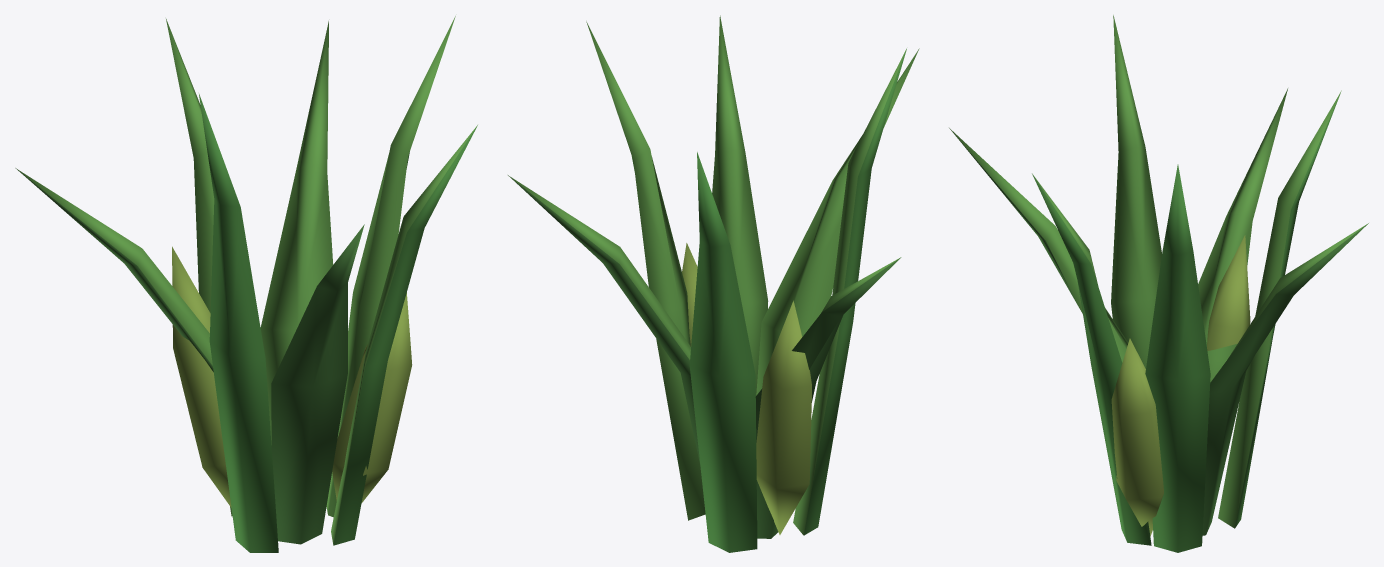
The model's file is rice_1.obj.
3 views of the same model, side by side, from view 1: azimuth 30°, elevation 25°; view 2: azimuth 150°, elevation 25°; view 3: azimuth 270°, elevation 25° (orthographic). The views are drawn at different scales.
Visible parts, largest first — view 1: rice_1_component_05, rice_1_component_06, rice_1_component_02, rice_1_component_07, rice_1_component_01, rice_1_component_08, rice_1_component_09, rice_1_component_04, rice_1_component_03; view 2: rice_1_component_03, rice_1_component_01, rice_1_component_05, rice_1_component_08, rice_1_component_07, rice_1_component_06, rice_1_component_02, rice_1_component_04, rice_1_component_09; view 3: rice_1_component_01, rice_1_component_05, rice_1_component_03, rice_1_component_02, rice_1_component_09, rice_1_component_07, rice_1_component_04, rice_1_component_06, rice_1_component_08.
Part boxes in pixels (x1,y1,x2,y2): rice_1_component_05: (199,94,278,552); rice_1_component_06: (271,224,364,544); rice_1_component_02: (260,21,333,444); rice_1_component_07: (331,125,477,545); rice_1_component_01: (326,16,455,517); rice_1_component_08: (172,246,231,507); rice_1_component_09: (332,292,412,502); rice_1_component_04: (15,168,213,371); rice_1_component_03: (166,19,232,516); rice_1_component_03: (689,152,757,552); rice_1_component_01: (586,21,705,520); rice_1_component_05: (793,48,906,535); rice_1_component_08: (756,300,811,534); rice_1_component_07: (712,15,768,396); rice_1_component_06: (756,48,919,395); rice_1_component_02: (508,175,700,464); rice_1_component_04: (755,257,901,538); rice_1_component_09: (682,243,697,346); rice_1_component_01: (1145,164,1210,552); rice_1_component_05: (1111,15,1161,368); rice_1_component_03: (1218,90,1341,528); rice_1_component_02: (1202,223,1368,535); rice_1_component_09: (1111,338,1163,536); rice_1_component_07: (1032,173,1151,545); rice_1_component_04: (1198,88,1287,382); rice_1_component_06: (949,128,1128,362); rice_1_component_08: (1207,235,1250,350).
Bounding box in the file's own units: 0.4238 × 0.5226 × 0.4382.
